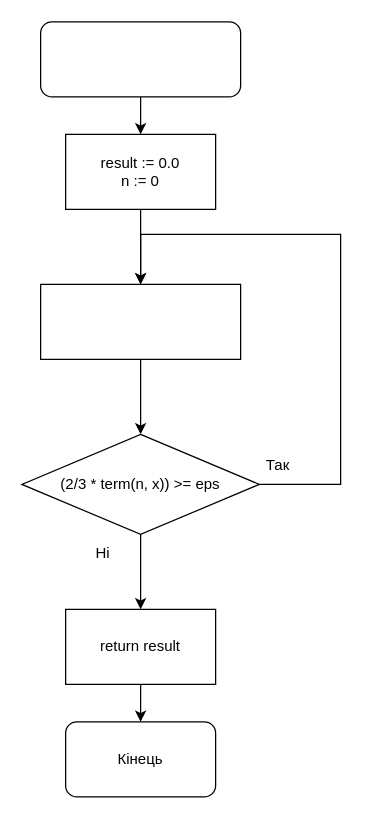
Image size: 373x819. Some labels were removed from this diagram. Each missing label, with the centre of its shape:
"n := n + 1 result := result + term(n, x)" goes at point (140, 321).
"Початок ch_with_precision(x, eps)" goes at point (140, 59).
